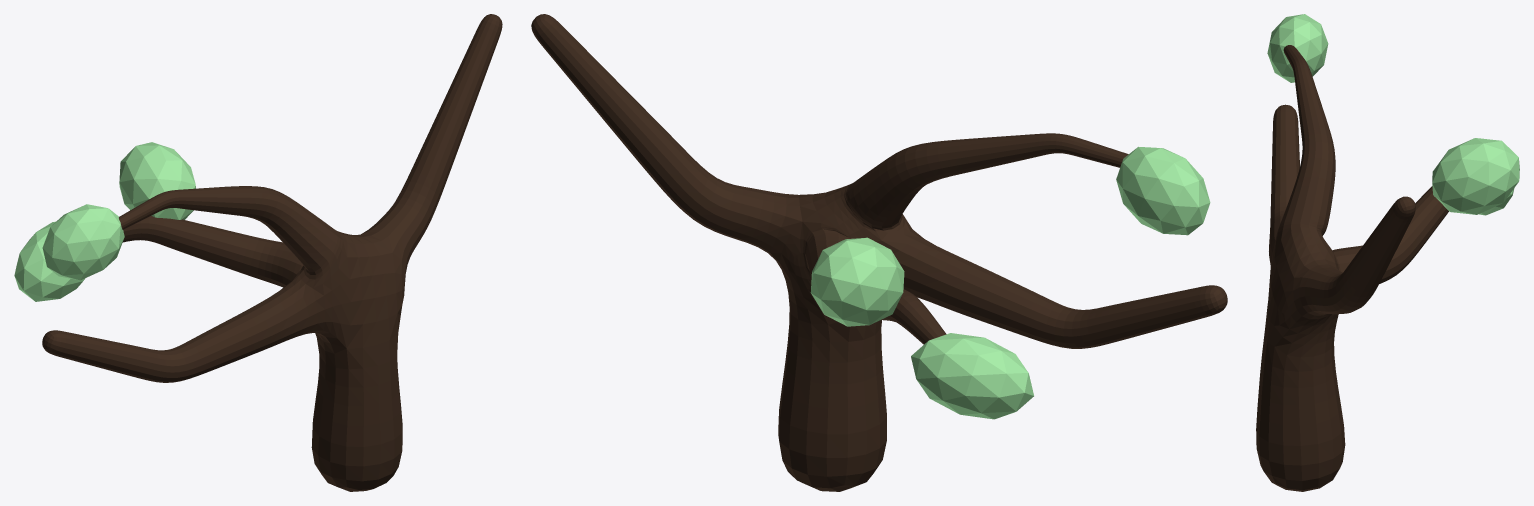
File: tree.glb
3 views of the same model, side by side, from view 1: azimuth 30°, elevation 25°; view 2: azimuth 150°, elevation 25°; view 3: azimuth 270°, elevation 25° (orthographic). The views are drawn at different scales.
Parts seen in each view (by area): view 1: Tree, Icosphere.002, Icosphere, Icosphere.001; view 2: Tree, Icosphere.001, Icosphere, Icosphere.002; view 3: Tree, Icosphere, Icosphere.002.
Boxes of the visible parts, bbox=[...] form: Tree: bbox=[42, 14, 502, 491]; Icosphere.002: bbox=[42, 204, 124, 280]; Icosphere: bbox=[119, 142, 195, 219]; Icosphere.001: bbox=[14, 221, 84, 301]; Tree: bbox=[531, 14, 1227, 491]; Icosphere.001: bbox=[911, 333, 1033, 419]; Icosphere: bbox=[810, 237, 904, 326]; Icosphere.002: bbox=[1116, 146, 1210, 235]; Tree: bbox=[1256, 45, 1448, 491]; Icosphere: bbox=[1432, 138, 1519, 214]; Icosphere.002: bbox=[1267, 14, 1328, 82].
Size of the model in its own units: 7.41 by 5.29 by 3.33.
